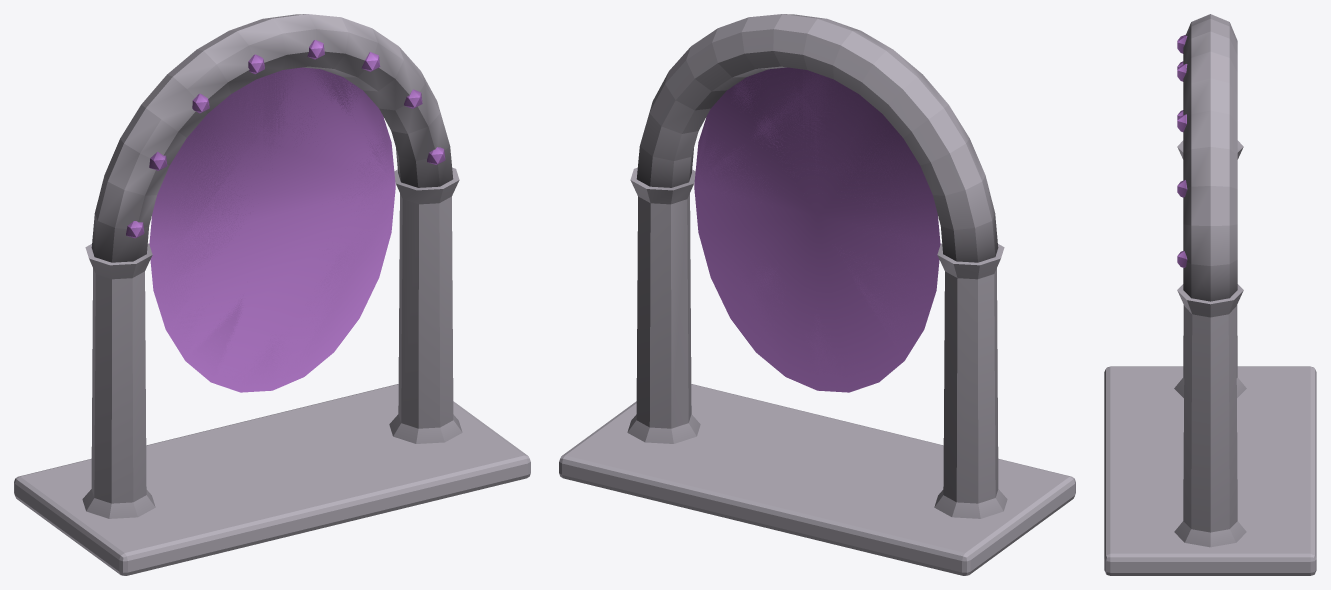
File: portal.fbx
3 renders of one model, left to right at view 1: azimuth 30°, elevation 25°; view 2: azimuth 150°, elevation 25°; view 3: azimuth 270°, elevation 25°, orthographic. The views are drawn at different scales.
Visible parts, largest first — view 1: Crystal, Step, Arch, Pillar, Pillar.001; view 2: Crystal, Step, Arch, Pillar, Pillar.001; view 3: Step, Arch, Pillar.001, Pillar.
Boxes of the visible parts, bbox=[...] form: Crystal: bbox=[149, 67, 395, 392]; Step: bbox=[14, 384, 530, 575]; Arch: bbox=[91, 14, 453, 262]; Pillar: bbox=[82, 243, 155, 518]; Pillar.001: bbox=[389, 167, 462, 443]; Crystal: bbox=[694, 67, 940, 392]; Step: bbox=[559, 384, 1075, 575]; Arch: bbox=[636, 14, 998, 262]; Pillar: bbox=[934, 243, 1007, 518]; Pillar.001: bbox=[627, 167, 700, 443]; Step: bbox=[1104, 366, 1316, 575]; Arch: bbox=[1183, 14, 1237, 301]; Pillar.001: bbox=[1174, 284, 1246, 547]; Pillar: bbox=[1174, 140, 1246, 397].
Size of the model in its own units: 1.5 by 1.64 by 0.7.
